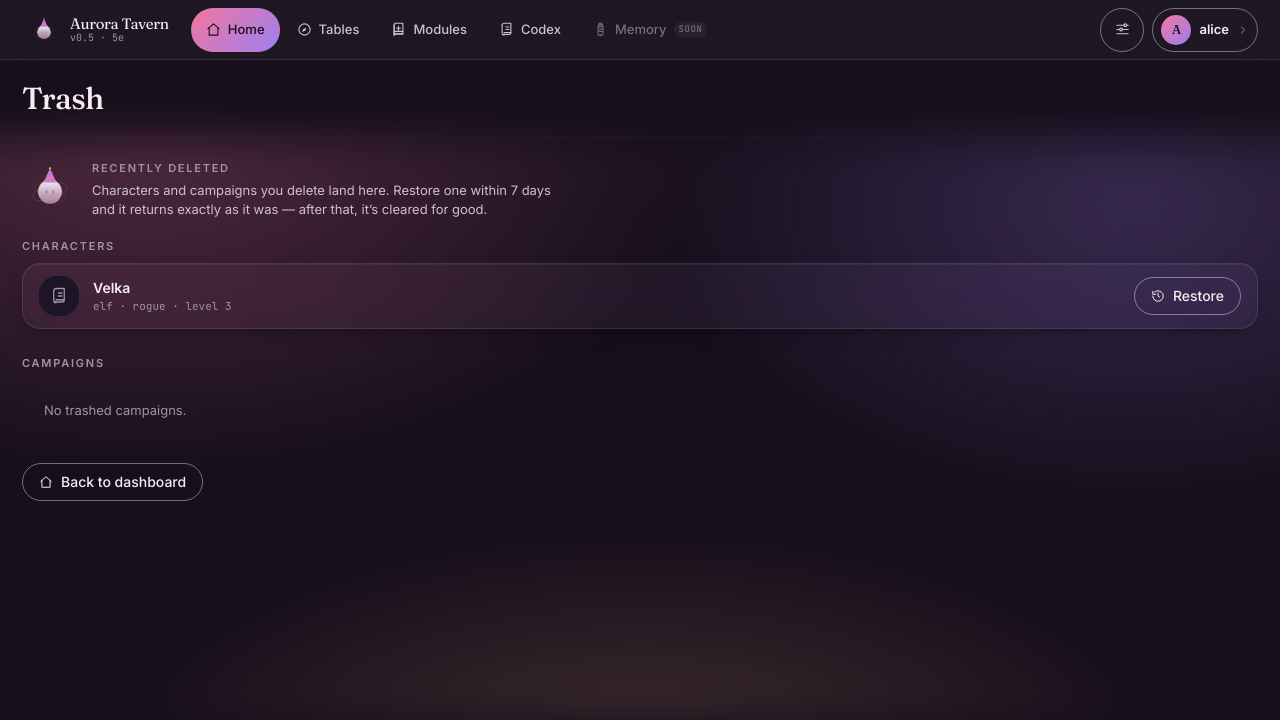
Test: Trash — populated › restore → Cancel in the confirm dialog leaves the row untouched
Click the button with aria-label "restore velka": [1187, 296] box [1134,277,1241,315]
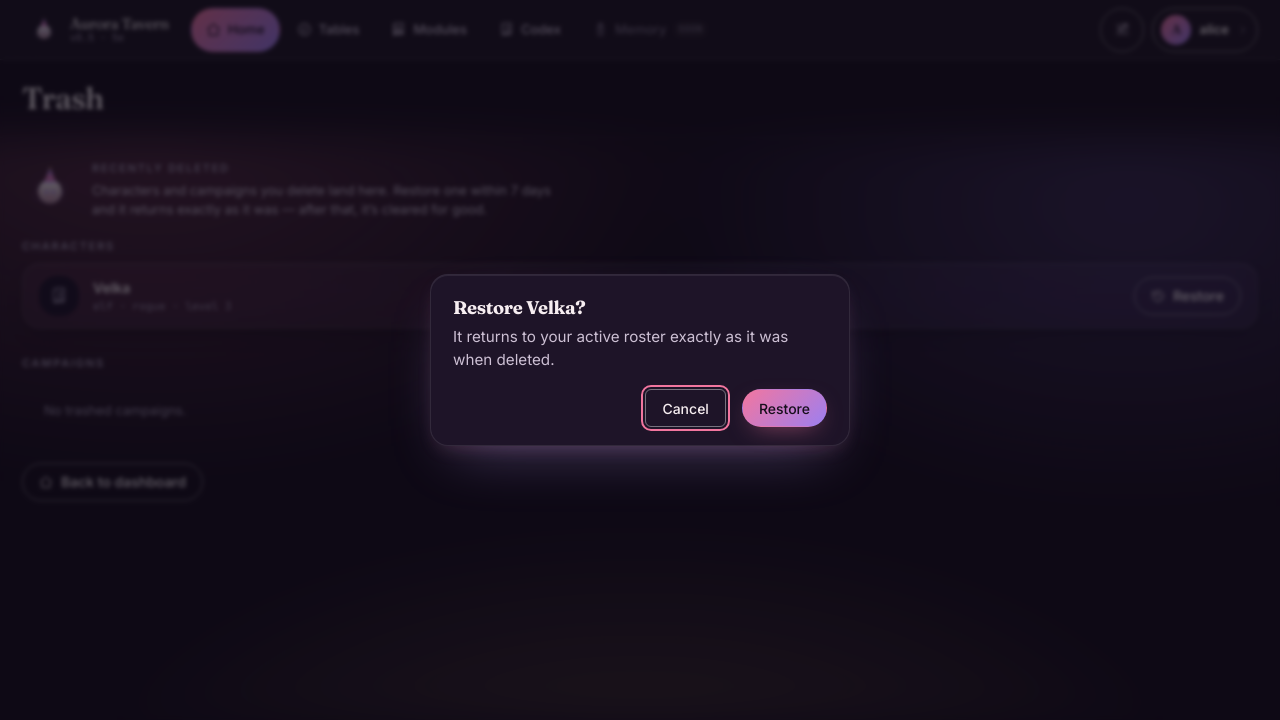
Click the button "Cancel": [686, 408] box [645,389,726,427]
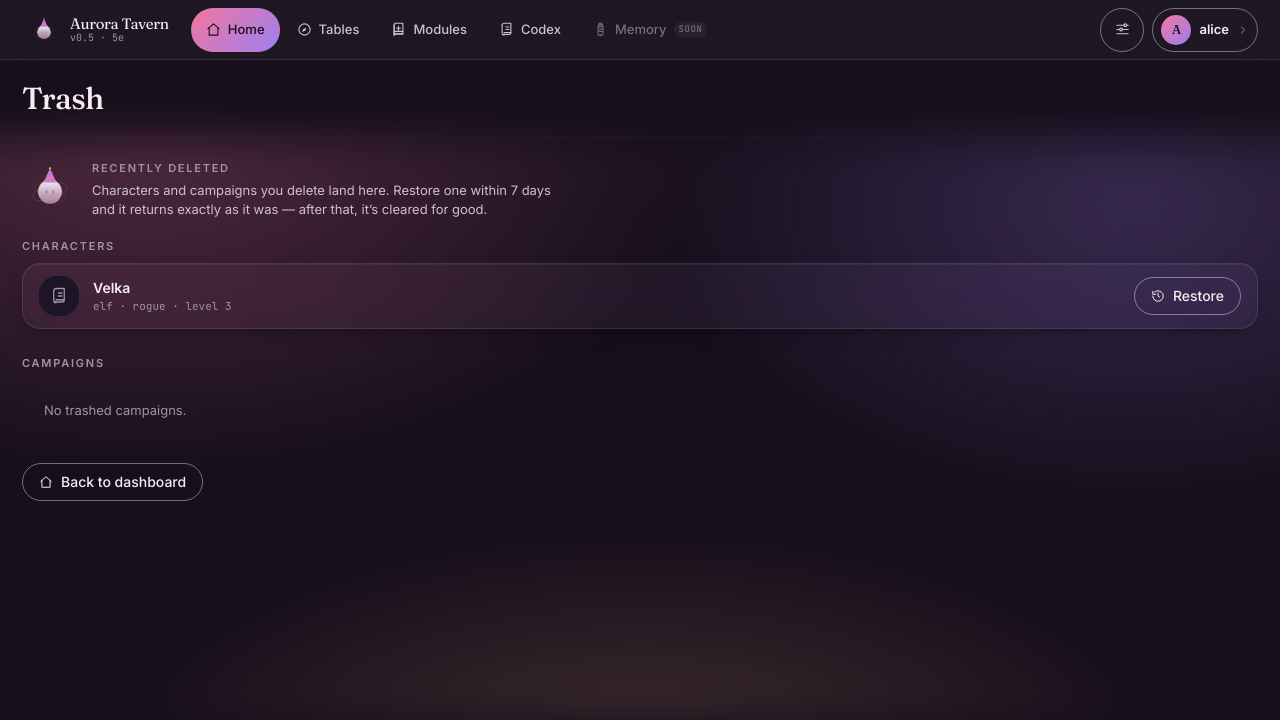
Expected: the text "Velka" is shown, [93,279,130,296]
Expected: the dialog is gone
